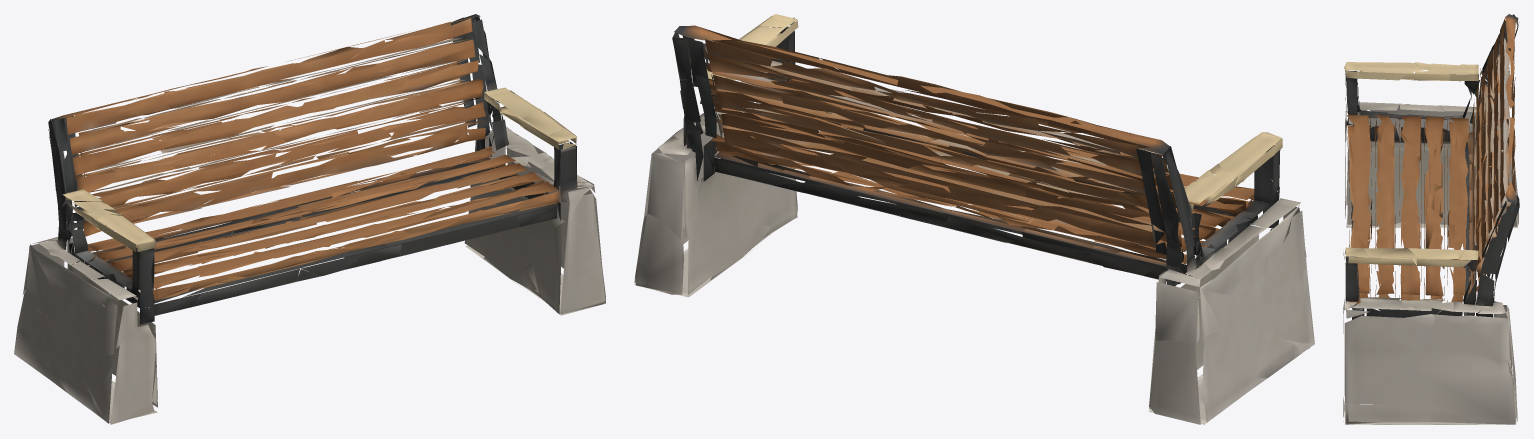
The model's file is bench_lux.glb.
The picture shows the model from 3 angles, left to right: view 1: azimuth 30°, elevation 25°; view 2: azimuth 150°, elevation 25°; view 3: azimuth 270°, elevation 25°; orthographic projection. The views are drawn at different scales.
Visible parts, largest first — view 1: LO.001; view 2: LO.001; view 3: LO.001.
Boxes of the visible parts, x1,y1,x2,y2 form: LO.001: (14,14,605,424); LO.001: (634,14,1314,424); LO.001: (1343,14,1519,424).
Size of the model in its own units: 1.9 by 0.8504 by 0.6475.
1 material, 1 textured.
